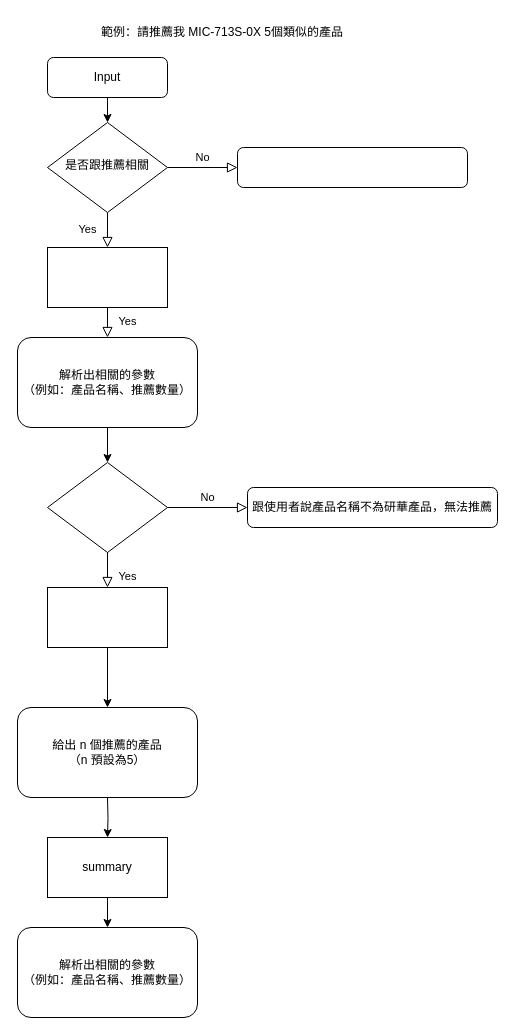
The diagram is 515 pixels wide and 1035 high, and some of its shapes have lost their labels. Here are the shapes that lost their labels. From the top down, the centre of each, then its label:
At (x=352, y=167): "跟使用者說無法提供推薦以外的任務".
At (x=107, y=277): "拆解推薦有關的schema".
At (x=107, y=507): "確認產品名稱 是否為 研華產品".
At (x=107, y=617): "以物推物API".
